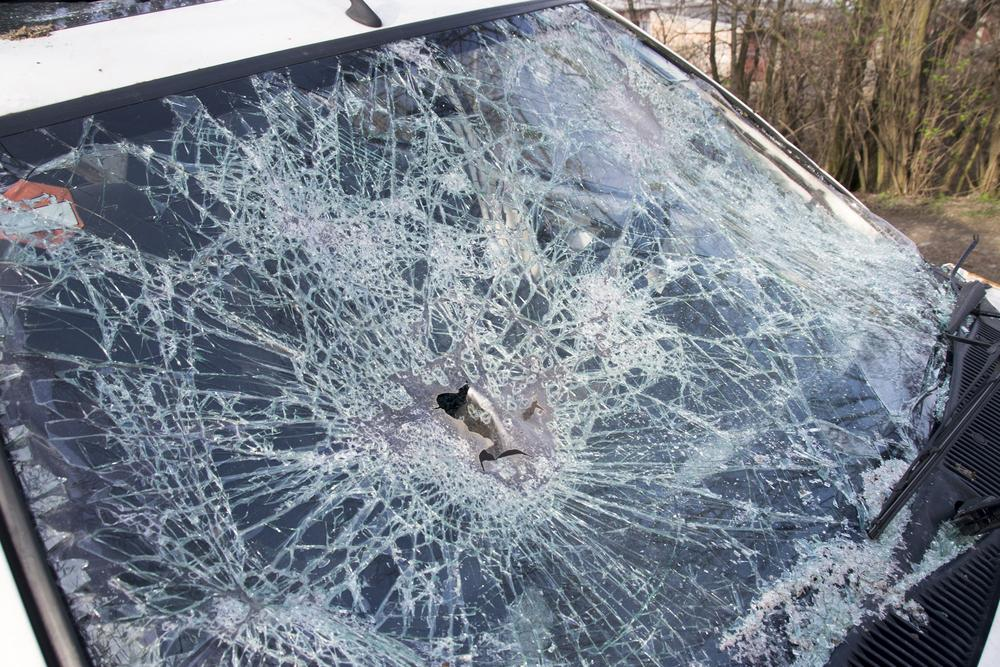glass shatter: (0, 2, 962, 667)
